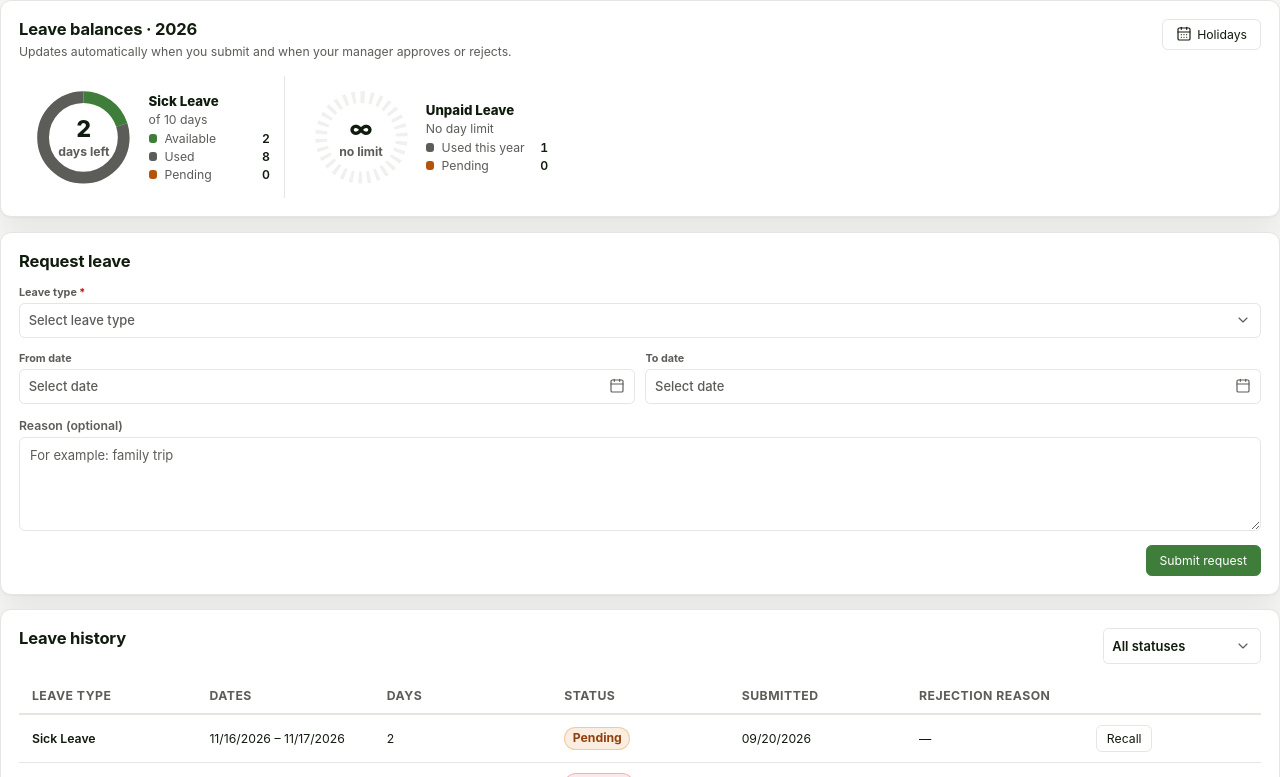
Test: LeavesWorkspace › submits one row per working day with a half day
This screenshot has width=1280, height=777.
Click the dropdown labelled "leave type" at (82, 320), box top-left (19, 302), bottom-right (1261, 338)
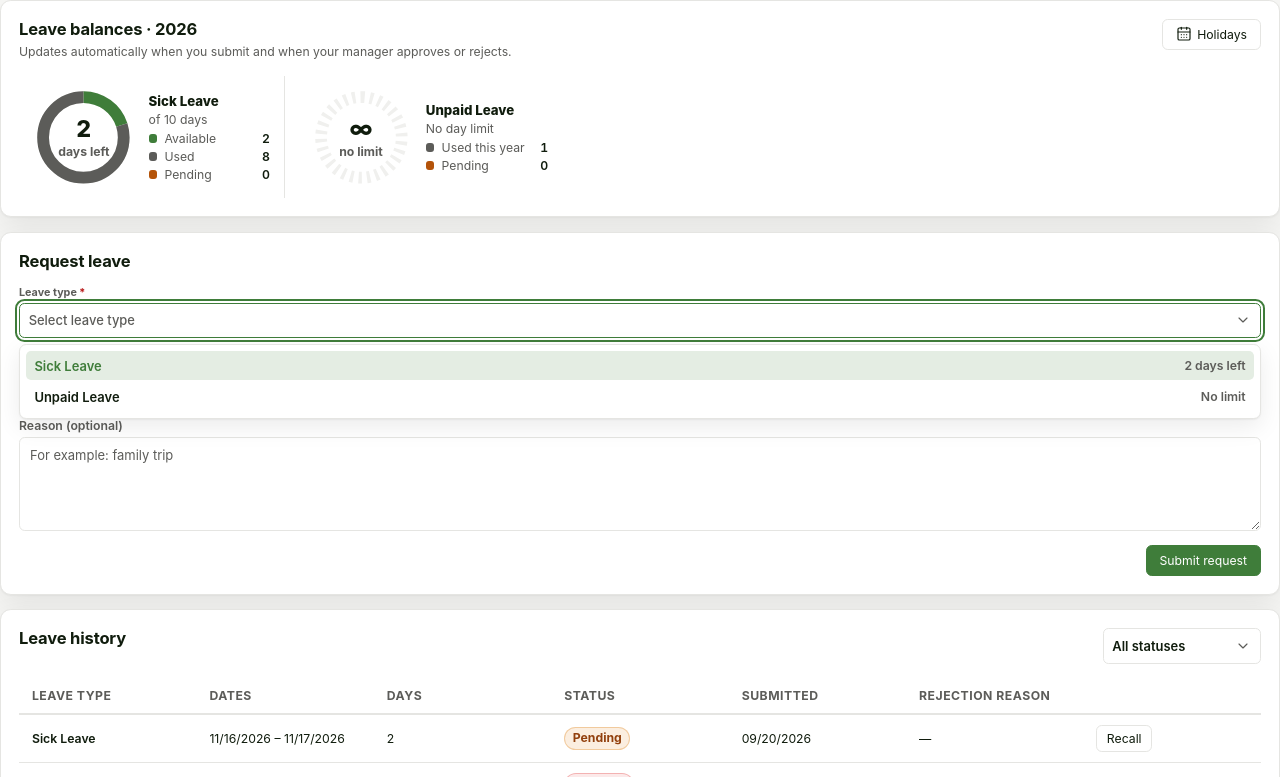
Click the option "Sick Leave 2 days left" at (68, 366), box top-left (26, 351), bottom-right (1254, 380)
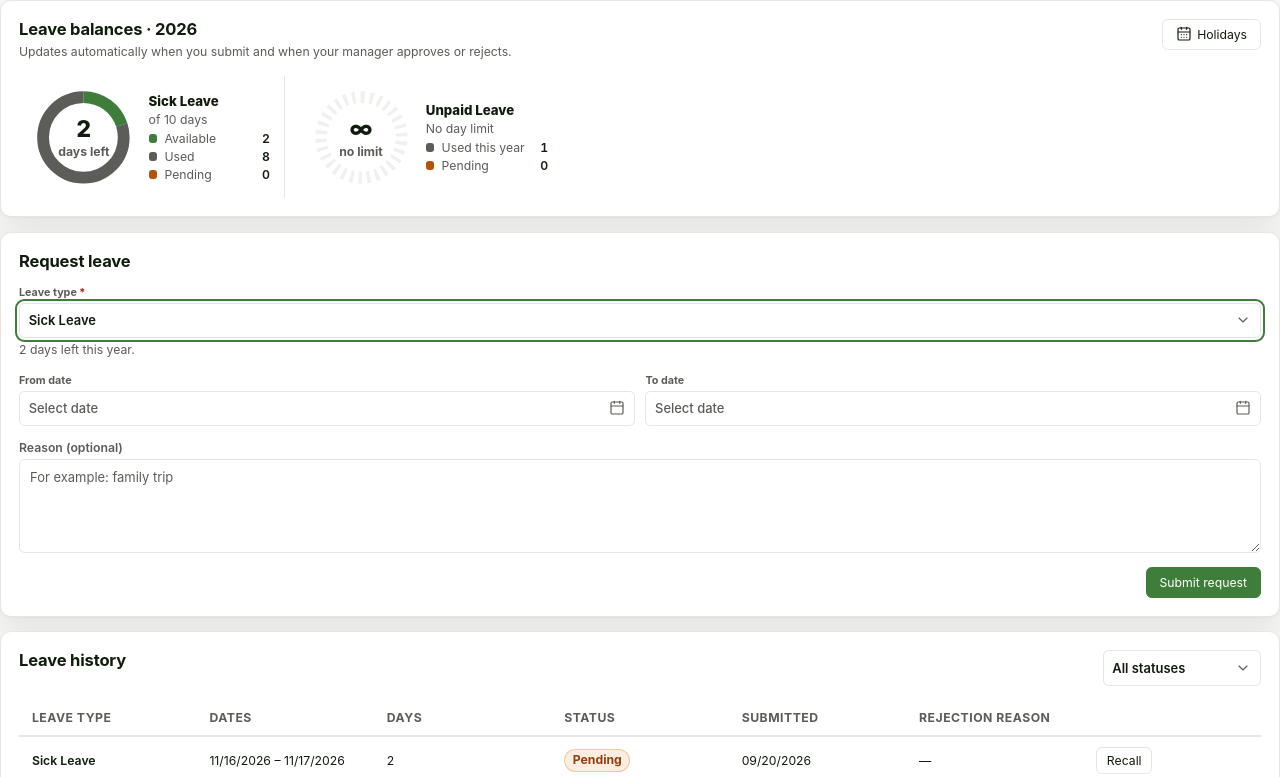
Type "2026-11-16" into the date field labelled "From date Select date" at (327, 400), box top-left (19, 374), bottom-right (635, 426)
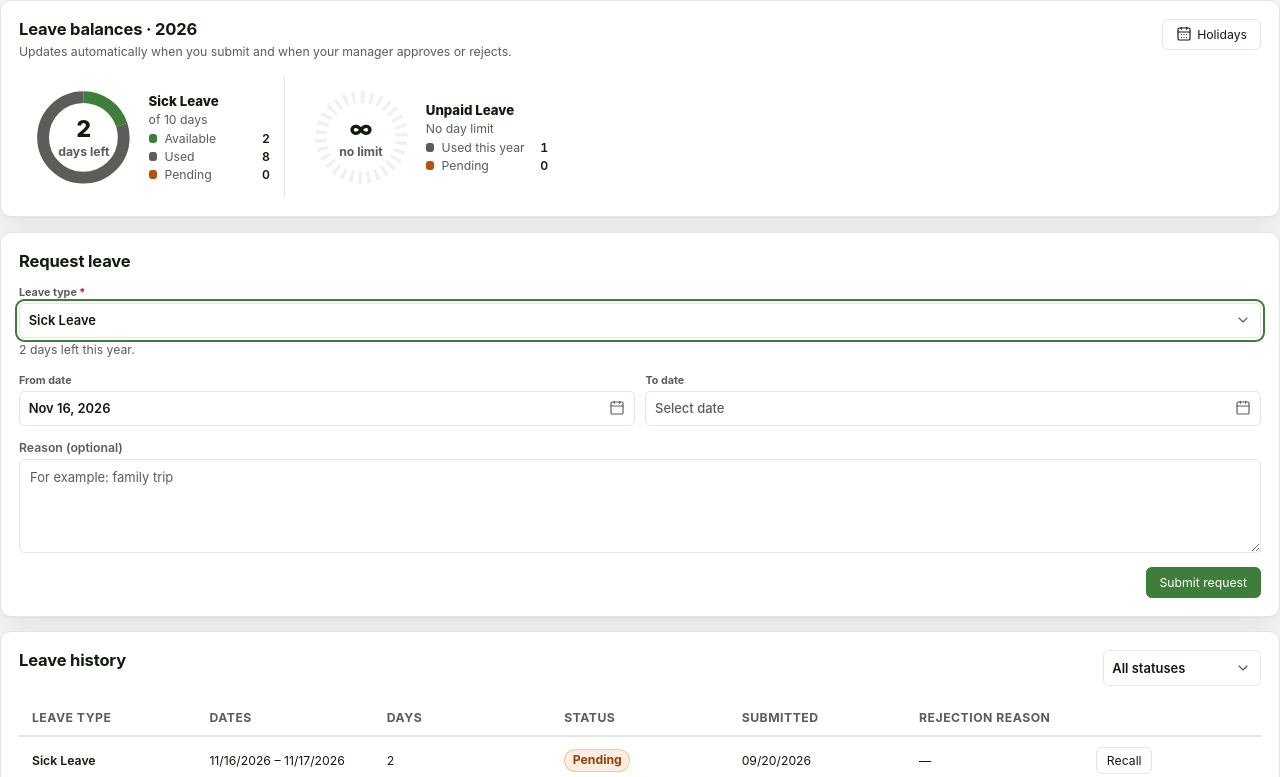
Type "2026-11-18" into the date field labelled "To date Select date" at (953, 400), box top-left (645, 374), bottom-right (1261, 426)
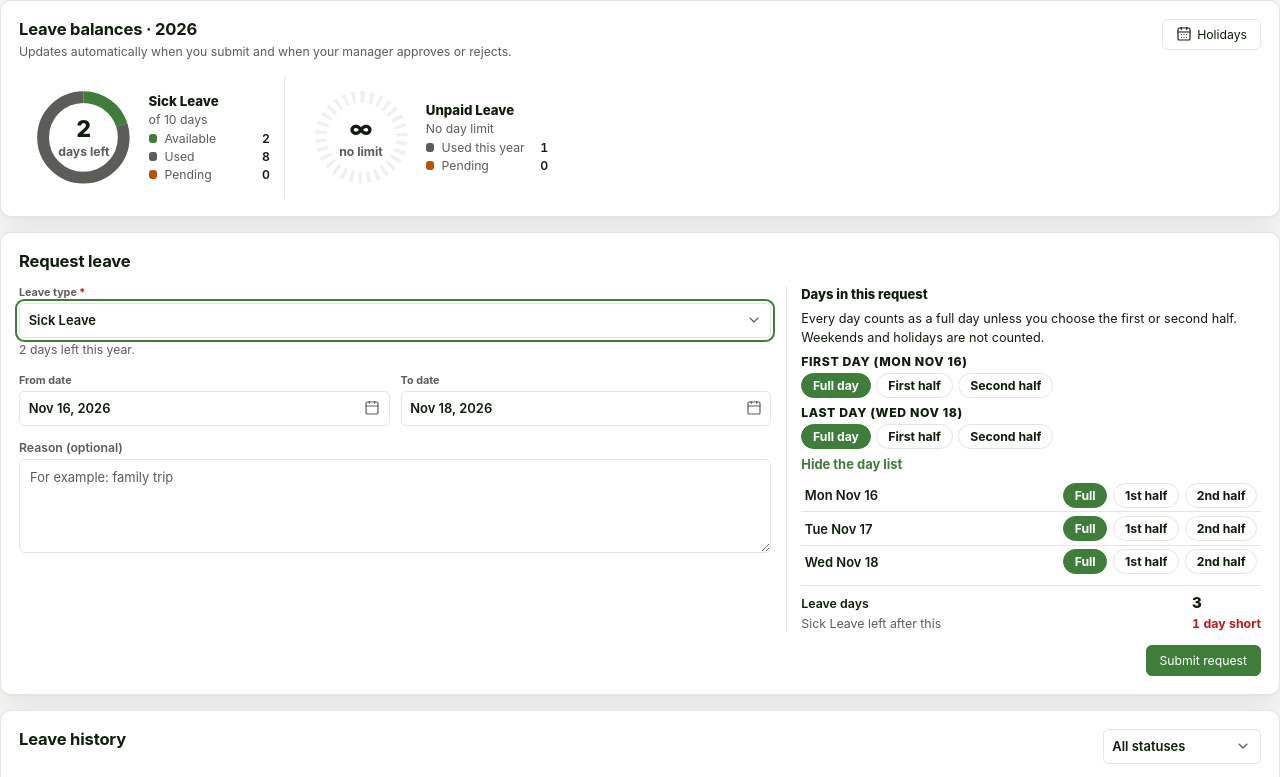
Expected: the text "2 days left this year." is shown, top-left (19, 342), bottom-right (135, 357)
Expected: the text "Leave days" is shown, top-left (801, 596), bottom-right (869, 611)
Click the 3rd button "2nd half" at (1221, 562), box top-left (1185, 549), bottom-right (1257, 574)
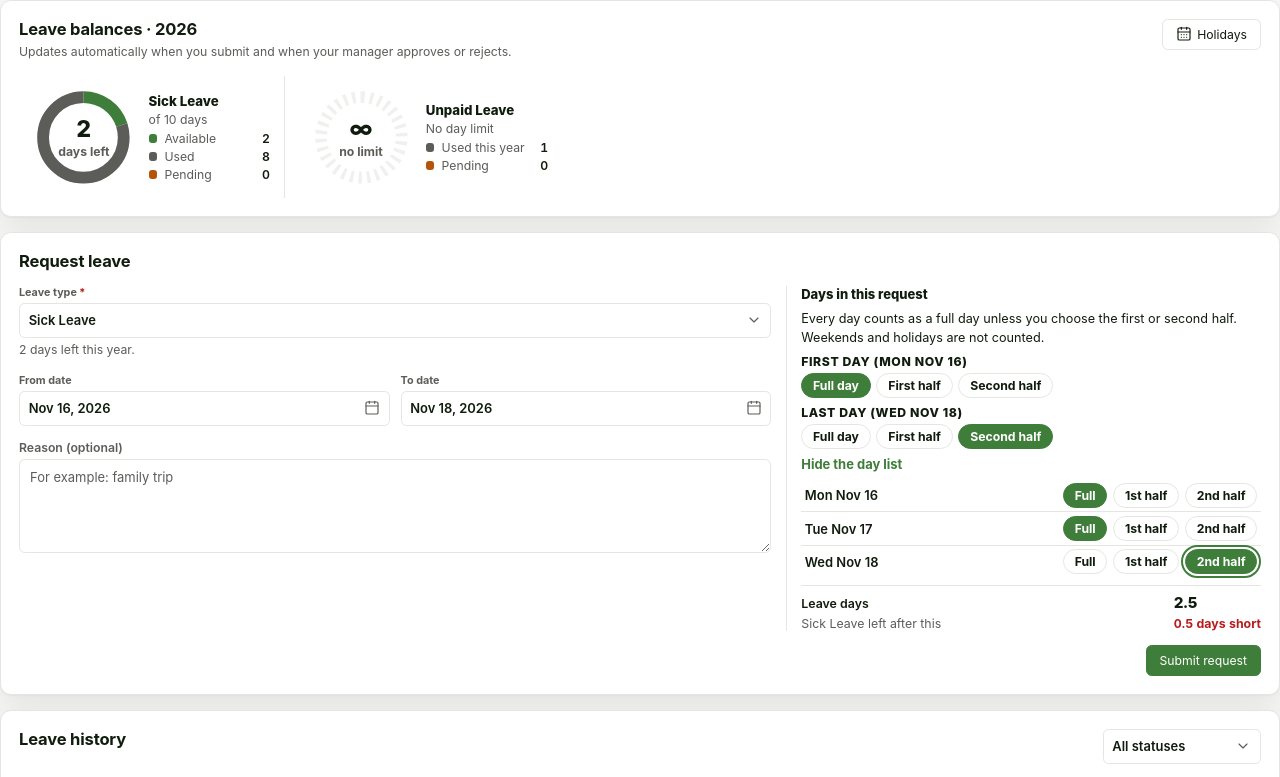
Click the button "Submit request" at (1203, 661), box top-left (1146, 645), bottom-right (1261, 676)
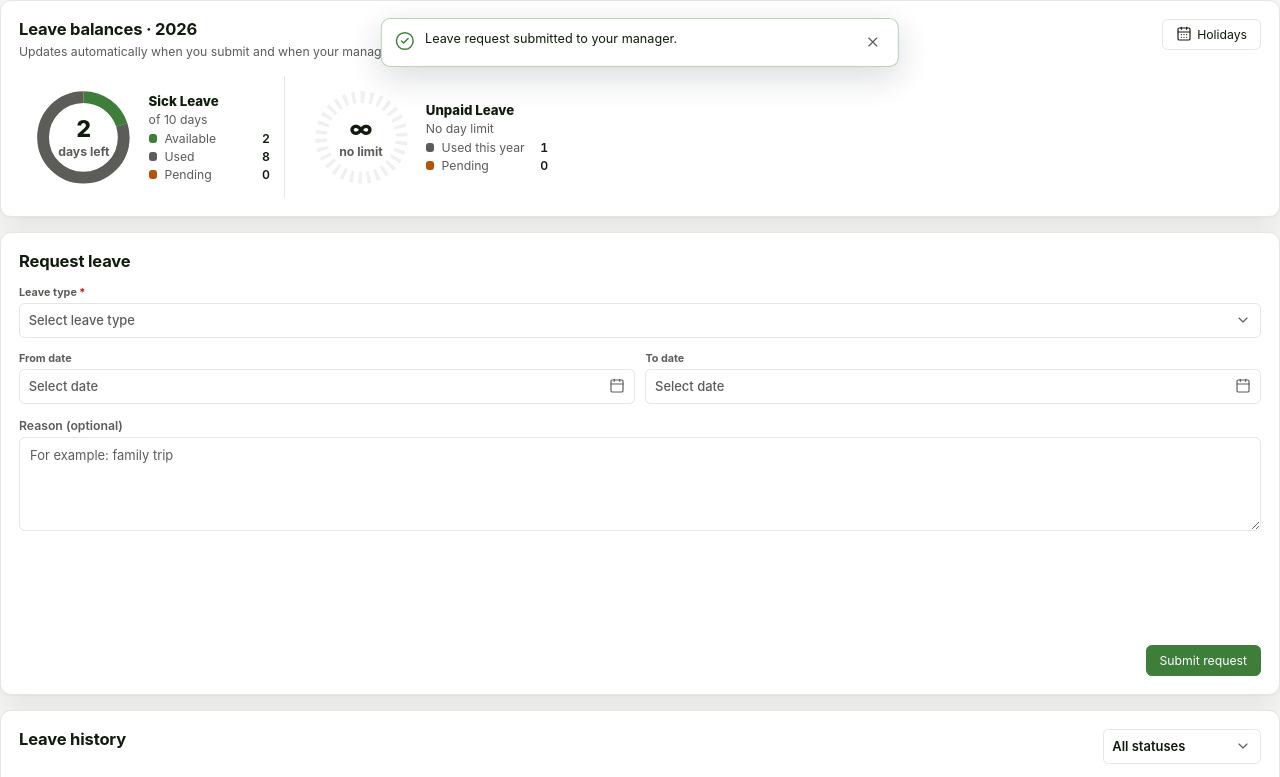
Expected: the text "Leave request submitted to your manager." is shown, top-left (425, 31), bottom-right (677, 46)
